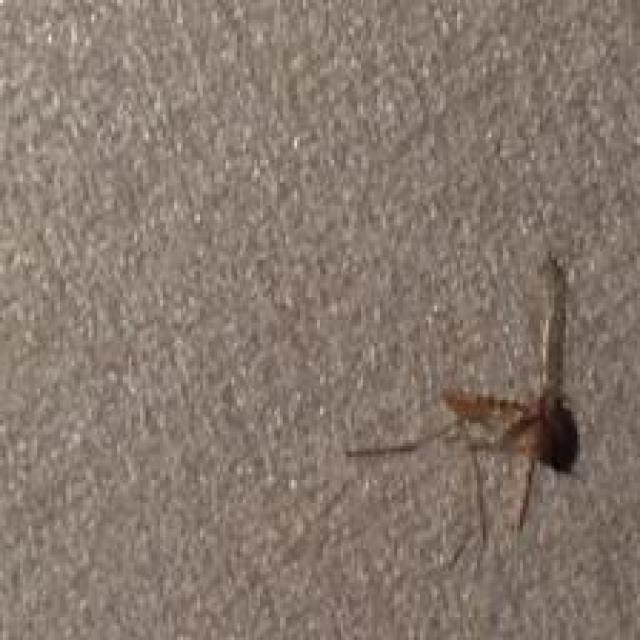Culex: (344, 253, 584, 573)
